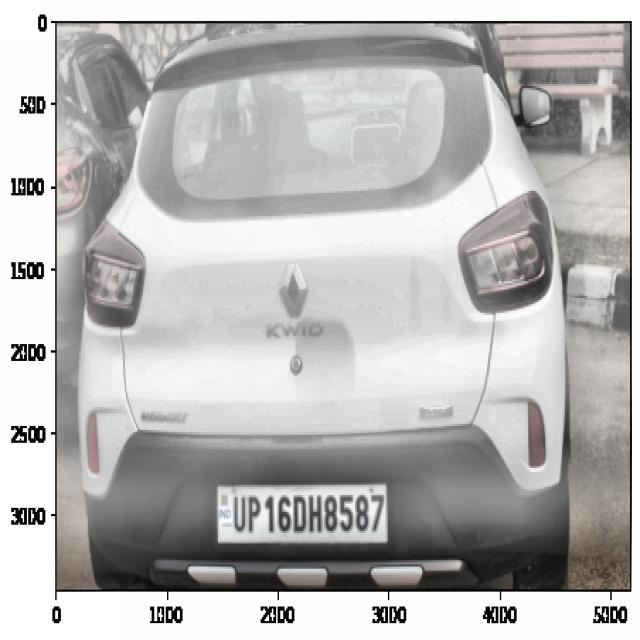license_plate: (224, 483, 390, 540)
